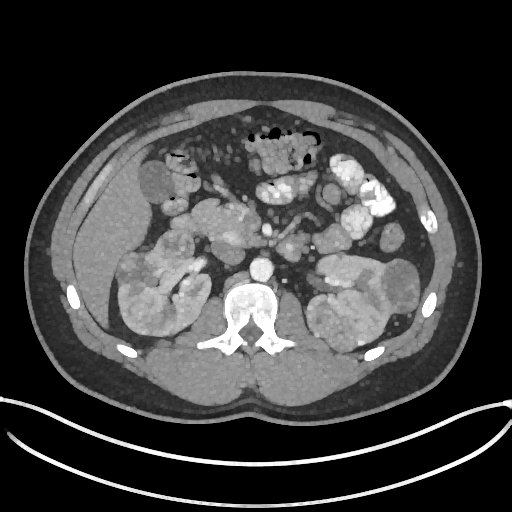Lesion: (375, 255, 421, 317), (109, 252, 153, 287)
